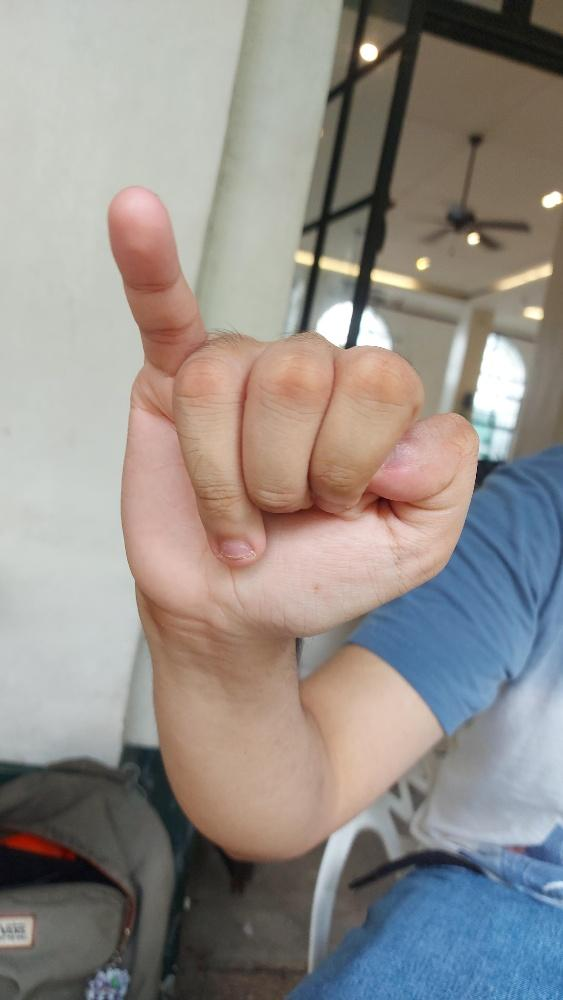i: (105, 184, 479, 637)
